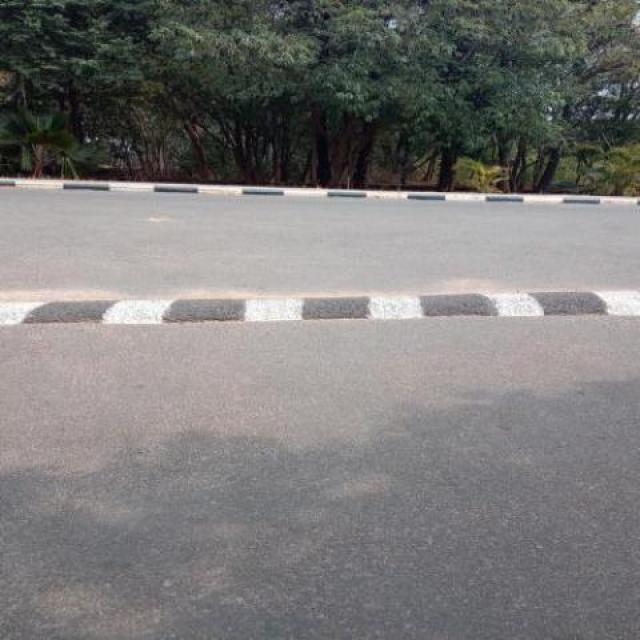Speed Bump: (0, 289, 639, 327)
